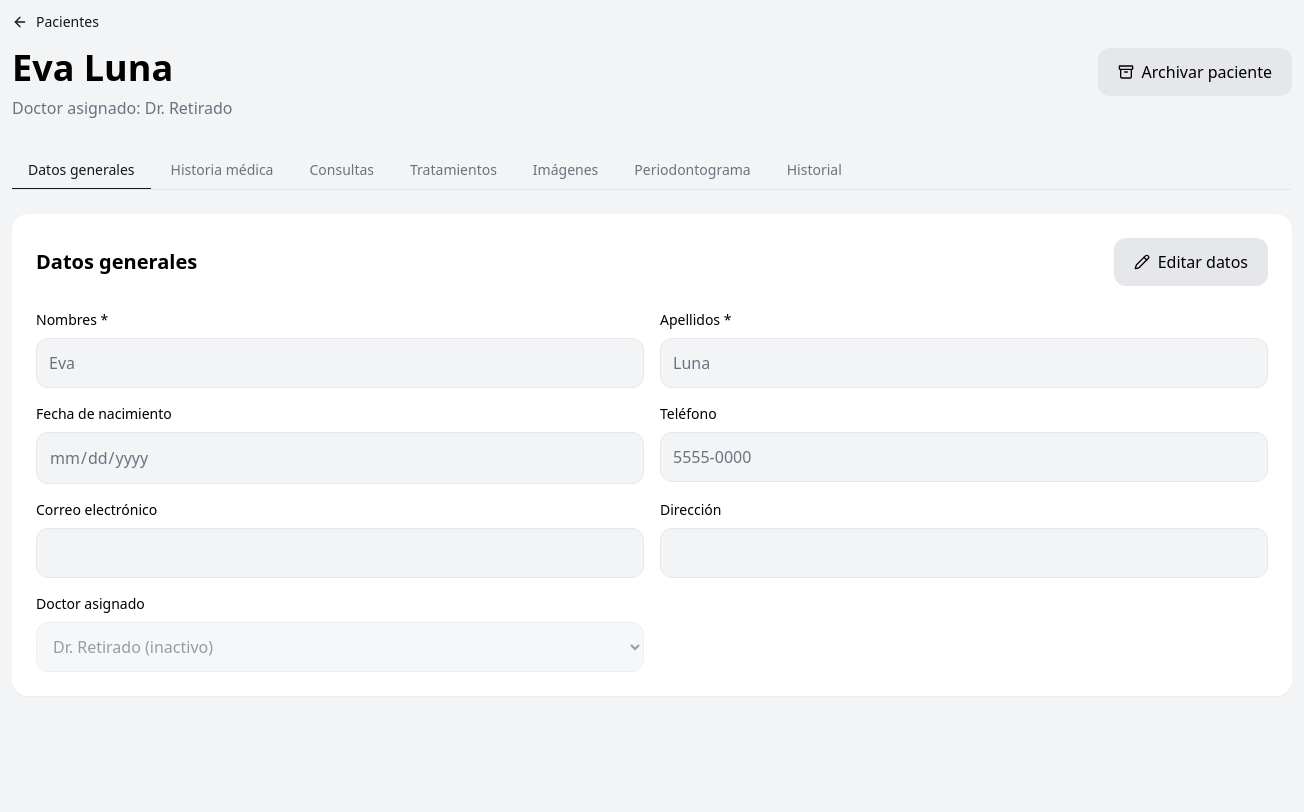
Test: PatientDetailPage › el doctor ve las consultas y puede registrar una
The image size is (1304, 812).
Click the tab "Consultas" at (342, 171), box [294, 152, 390, 190]
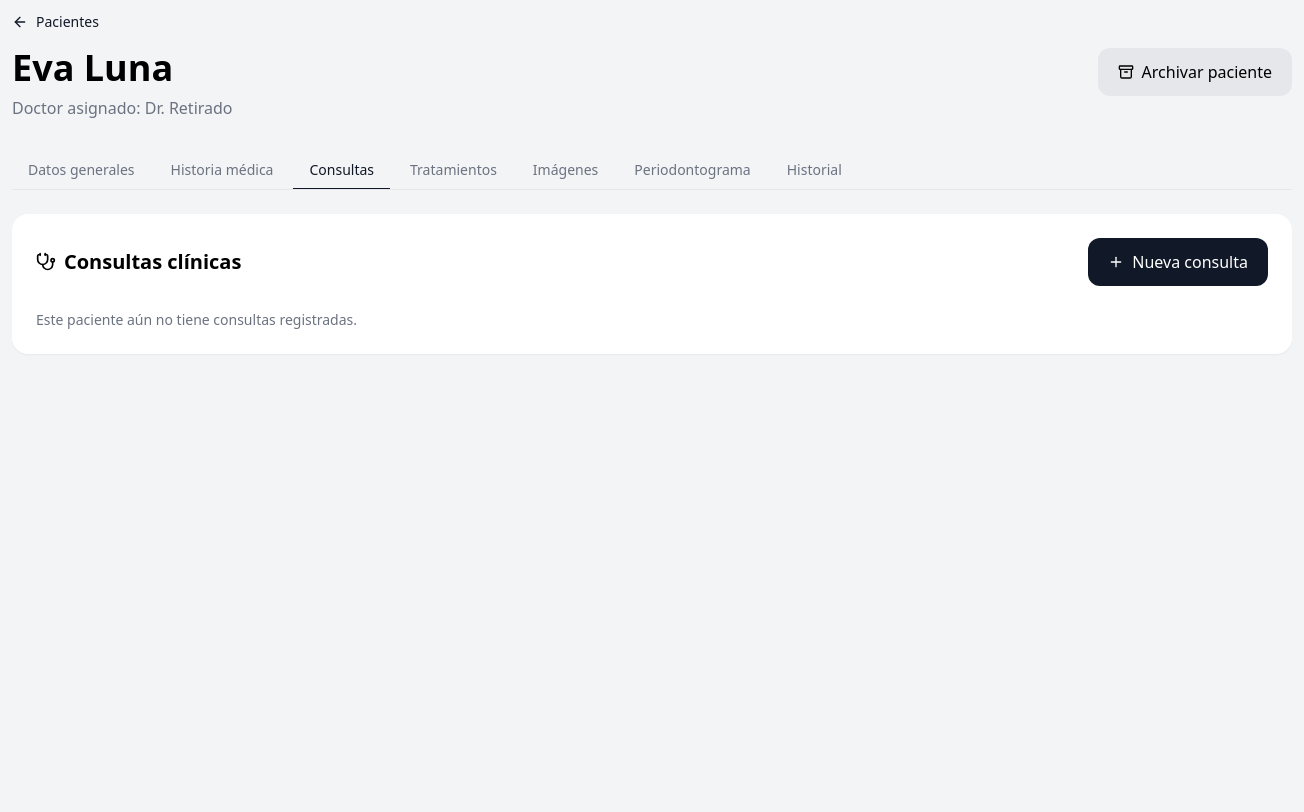
Now the heading "Consultas clínicas" is shown, box [36, 248, 241, 276]
Now the button "Nueva consulta" is shown, box [1088, 238, 1268, 286]
